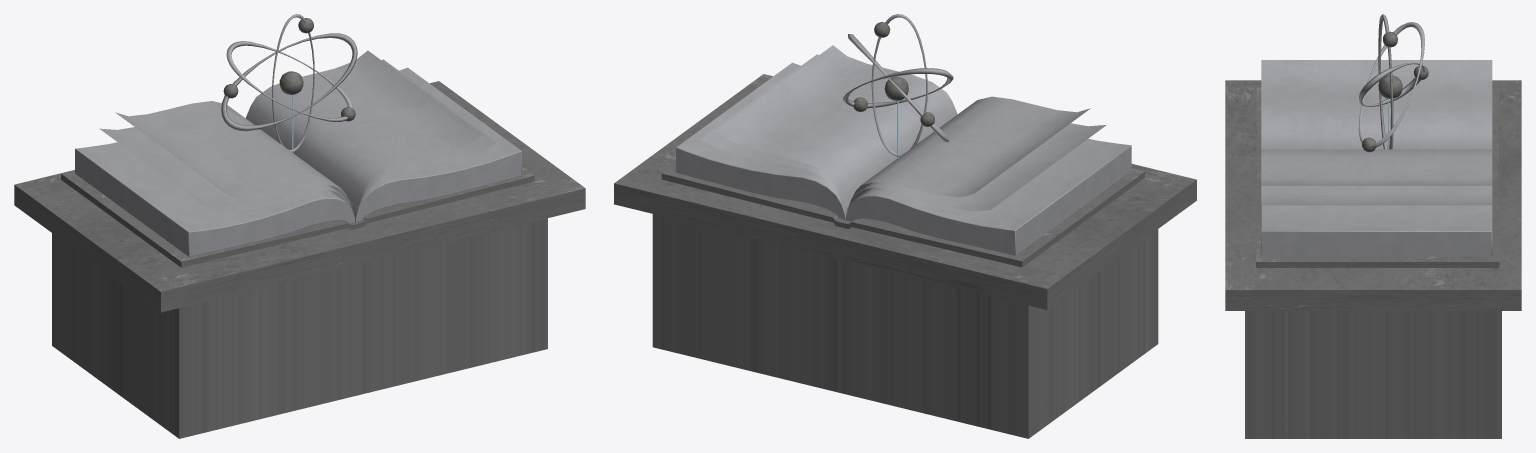
File: Estatua de la Universidad(highpoly).fbx
The picture shows the model from 3 angles, left to right: view 1: azimuth 30°, elevation 25°; view 2: azimuth 150°, elevation 25°; view 3: azimuth 270°, elevation 25°; orthographic projection.
Visible parts, largest first — view 1: Cube.012, BézierCurve.001, Cube.011, BézierCircle.002, Cube.008; view 2: Cube.012, BézierCurve.001, Cube.011, BézierCircle.002, Cube.008; view 3: Cube.012, BézierCurve.001, Cube.011, BézierCircle.002, Cube.008.
Part boxes in pixels (x1,y1,x2,y2): Cube.012: (14, 81, 585, 438); BézierCurve.001: (75, 50, 521, 256); Cube.011: (61, 166, 534, 267); BézierCircle.002: (221, 14, 357, 152); Cube.008: (223, 18, 355, 121); Cube.012: (614, 74, 1196, 438); BézierCurve.001: (676, 45, 1131, 255); Cube.011: (661, 163, 1144, 267); BézierCircle.002: (842, 14, 953, 156); Cube.008: (853, 22, 934, 126); Cube.012: (1225, 80, 1521, 438); BézierCurve.001: (1261, 60, 1492, 256); Cube.011: (1256, 87, 1499, 267); BézierCircle.002: (1358, 14, 1424, 149); Cube.008: (1362, 31, 1428, 152).
Size of the model in its own units: 2.88 by 2.13 by 1.72.
6 materials, 5 textured.
